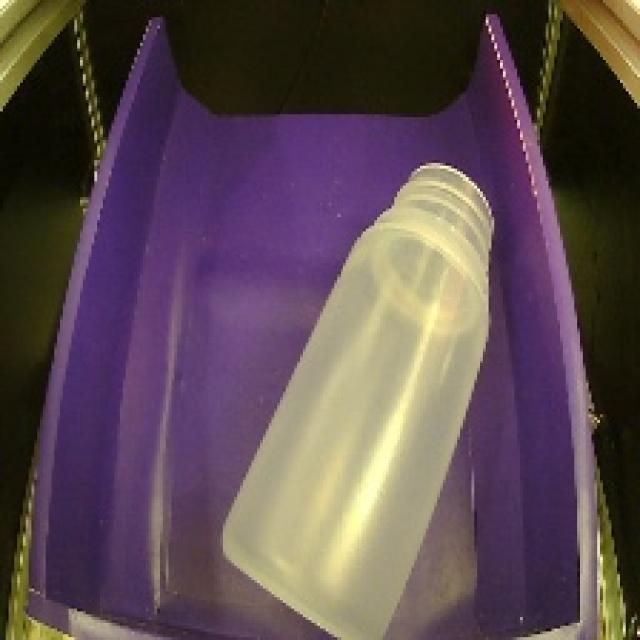plastic: (200, 146, 509, 640)
